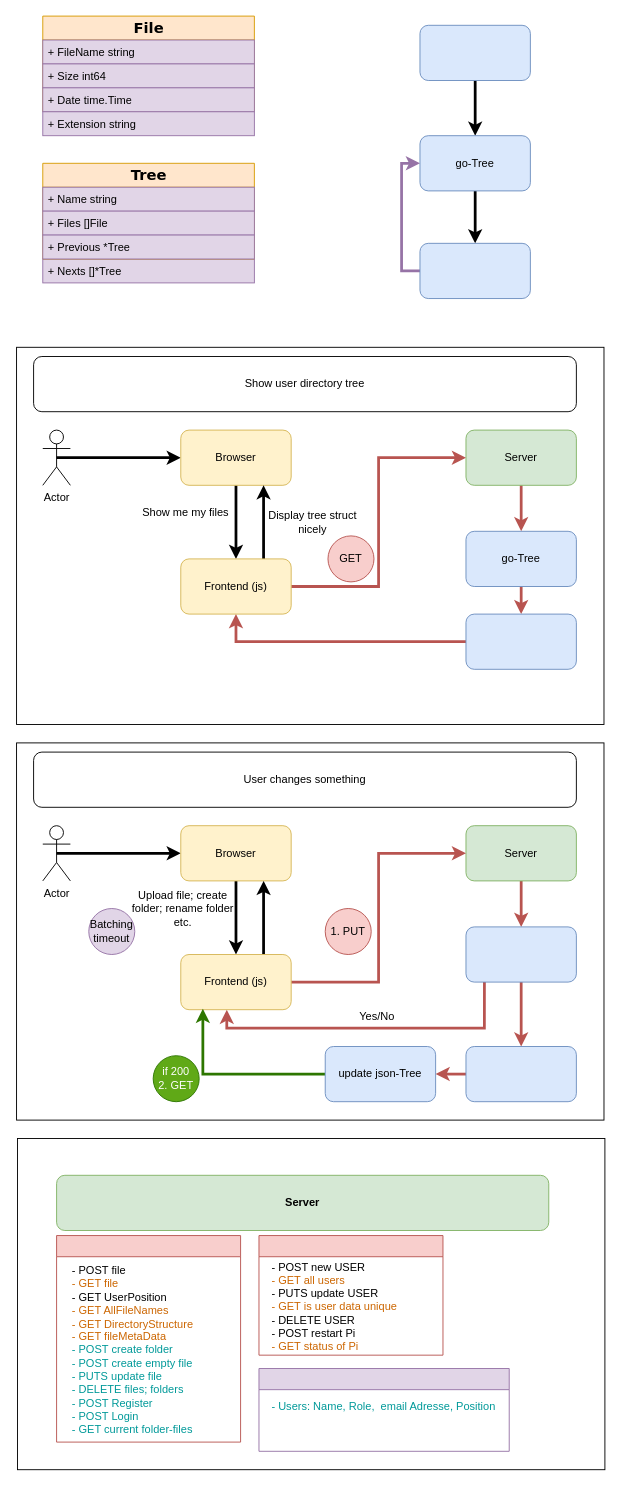
The diagram is 621 pixels wide and 1486 high, and some of its shapes have lost their labels. Here are the shapes that lost their labels. From the top down, the box of each, then its label:
(419, 24, 530, 80): Directory-Tree
(419, 242, 530, 299): json-Tree
(465, 613, 576, 669): json-Tree for current folder
(465, 926, 576, 982): Is this possible?
(465, 1046, 576, 1102): Update directory
(258, 1235, 443, 1355): Routes Admin Dashboard
(56, 1235, 241, 1442): Routes Rest API
(258, 1368, 509, 1451): Database table
